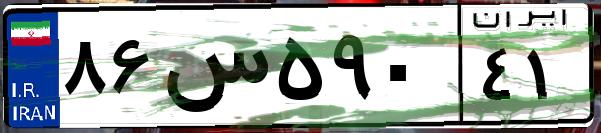0: (385, 28, 445, 110)
1: (525, 38, 570, 115)
4: (475, 38, 525, 113)
5: (270, 28, 330, 110)
6: (110, 28, 158, 98)
8: (57, 26, 110, 100)
9: (330, 28, 385, 110)
س: (158, 20, 270, 120)
